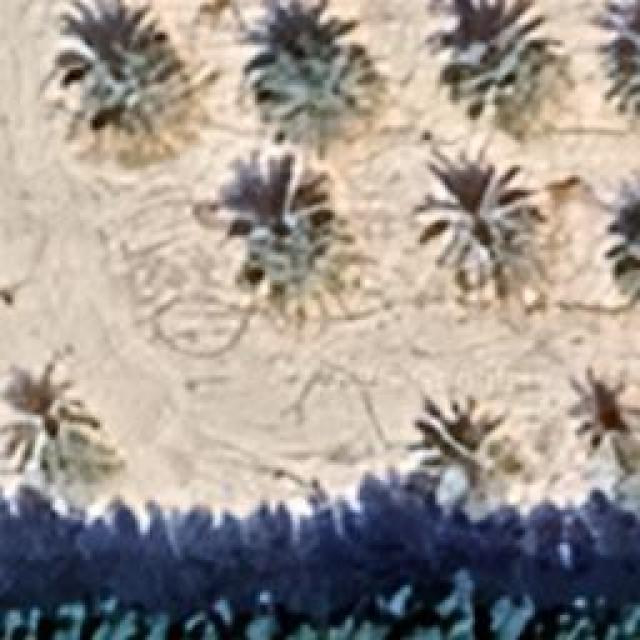PalmTree: (238, 169, 350, 309), (435, 7, 550, 132), (67, 29, 195, 139), (412, 170, 530, 285), (260, 8, 375, 124), (420, 414, 522, 528), (0, 360, 98, 478), (571, 372, 640, 466), (592, 0, 640, 115), (604, 185, 638, 300)
